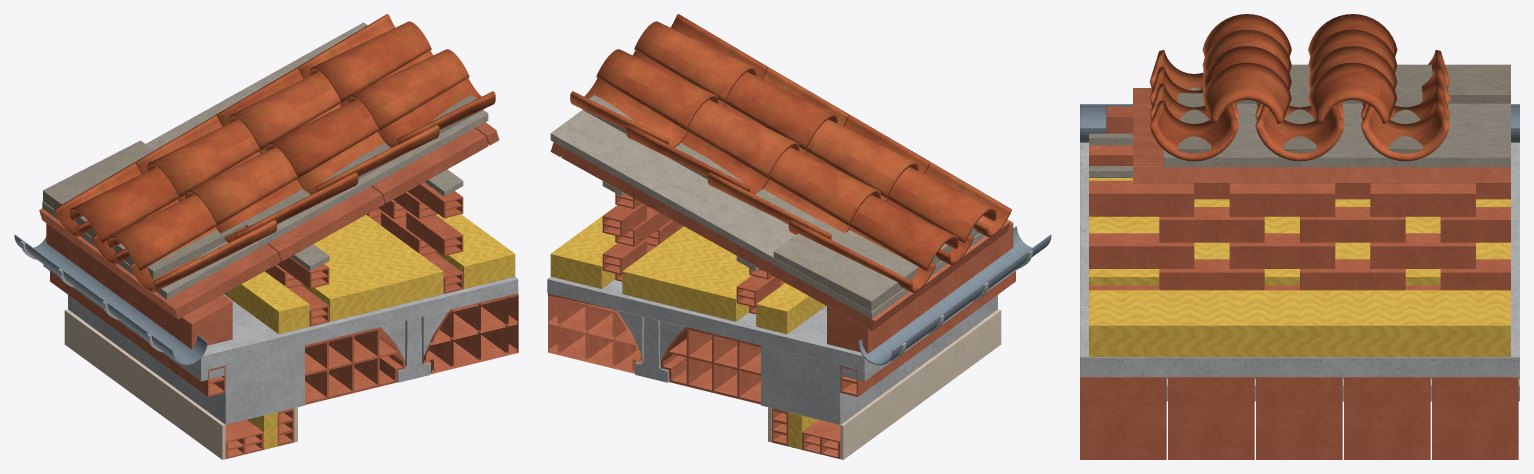
Rendered from detalle5_alero_teja_curva.glb.
3 renders of one model, left to right at view 1: azimuth 30°, elevation 25°; view 2: azimuth 150°, elevation 25°; view 3: azimuth 270°, elevation 25°, orthographic. The views are drawn at different scales.
Parts seen in each view (by area): view 1: D5_Teja_Cobija, D5_Forjado, D5_Teja_Canal, D5_Aislamiento, D5_Tabiquillos, D5_Fachada, D5_Bovedillas, D5_Tablero, D5_Regularizacion, D5_Mortero_Agarre, D5_Canalon; view 2: D5_Teja_Cobija, D5_Forjado, D5_Teja_Canal, D5_Aislamiento, D5_Regularizacion, D5_Fachada, D5_Bovedillas, D5_Tabiquillos, D5_Mortero_Agarre, D5_Tablero, D5_Canalon; view 3: D5_Tabiquillos, D5_Aislamiento, D5_Bovedillas, D5_Teja_Cobija, D5_Forjado, D5_Teja_Canal, D5_Regularizacion, D5_Tablero, D5_Mortero_Agarre, D5_Canalon.
Part boxes in pixels (x1=…): D5_Teja_Cobija: x1=69, y1=21, x2=469, y2=270; D5_Forjado: x1=43, y1=241, x2=518, y2=424; D5_Teja_Canal: x1=54, y1=14, x2=495, y2=292; D5_Aislamiento: x1=224, y1=214, x2=515, y2=334; D5_Tabiquillos: x1=46, y1=169, x2=463, y2=349; D5_Fachada: x1=50, y1=271, x2=297, y2=459; D5_Bovedillas: x1=305, y1=293, x2=518, y2=404; D5_Tablero: x1=39, y1=122, x2=499, y2=319; D5_Regularizacion: x1=42, y1=22, x2=488, y2=299; D5_Mortero_Agarre: x1=43, y1=95, x2=483, y2=279; D5_Canalon: x1=14, y1=234, x2=207, y2=365; D5_Teja_Cobija: x1=596, y1=21, x2=996, y2=270; D5_Forjado: x1=547, y1=241, x2=1022, y2=424; D5_Teja_Canal: x1=570, y1=14, x2=1011, y2=292; D5_Aislamiento: x1=550, y1=205, x2=825, y2=334; D5_Regularizacion: x1=550, y1=110, x2=985, y2=319; D5_Fachada: x1=768, y1=271, x2=1015, y2=459; D5_Bovedillas: x1=548, y1=293, x2=760, y2=404; D5_Tabiquillos: x1=602, y1=181, x2=1013, y2=353; D5_Mortero_Agarre: x1=582, y1=95, x2=981, y2=311; D5_Tablero: x1=550, y1=142, x2=1010, y2=330; D5_Canalon: x1=858, y1=226, x2=1051, y2=365; D5_Tabiquillos: x1=1089, y1=106, x2=1510, y2=290; D5_Aislamiento: x1=1089, y1=178, x2=1510, y2=356; D5_Bovedillas: x1=1080, y1=377, x2=1518, y2=459; D5_Teja_Cobija: x1=1202, y1=14, x2=1397, y2=123; D5_Forjado: x1=1080, y1=142, x2=1519, y2=401; D5_Teja_Canal: x1=1149, y1=50, x2=1450, y2=161; D5_Regularizacion: x1=1163, y1=87, x2=1510, y2=167; D5_Tablero: x1=1133, y1=88, x2=1510, y2=183; D5_Mortero_Agarre: x1=1177, y1=64, x2=1510, y2=153; D5_Canalon: x1=1080, y1=104, x2=1519, y2=142.
Bounding box in the file's own units: 1.3 × 1.03 × 1.
15 materials, 15 textured.
